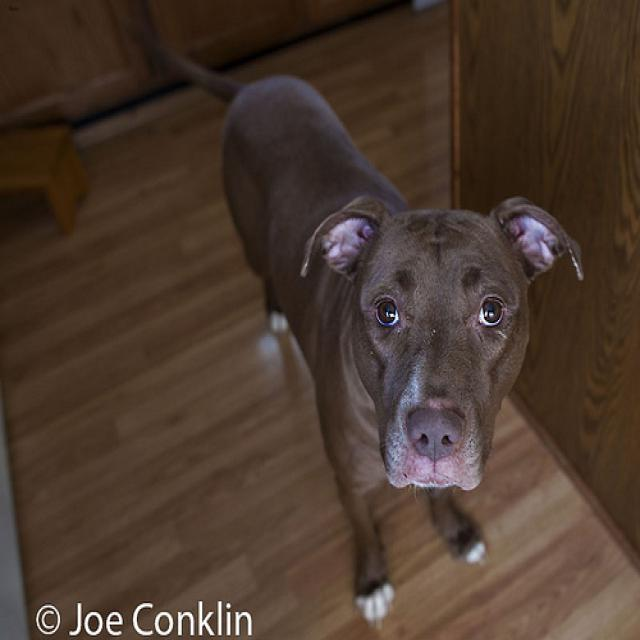dog-american_pit_bull_terrier: (152, 37, 589, 637)
